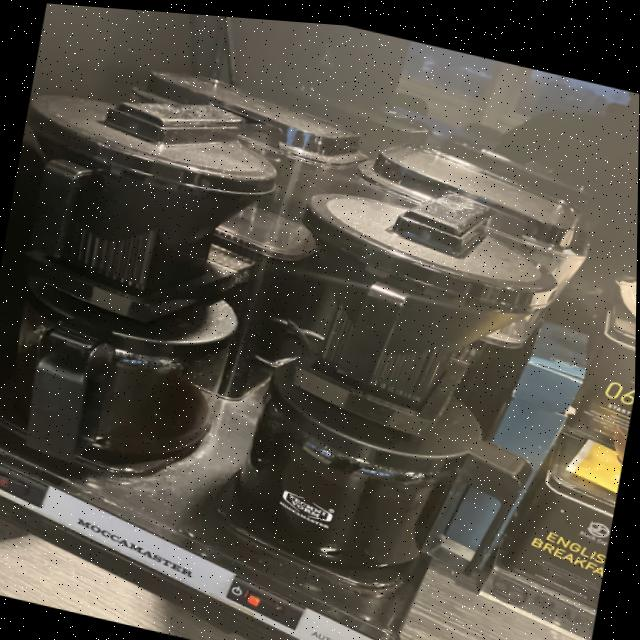coffee: (0, 241, 259, 487), (243, 327, 483, 577)
